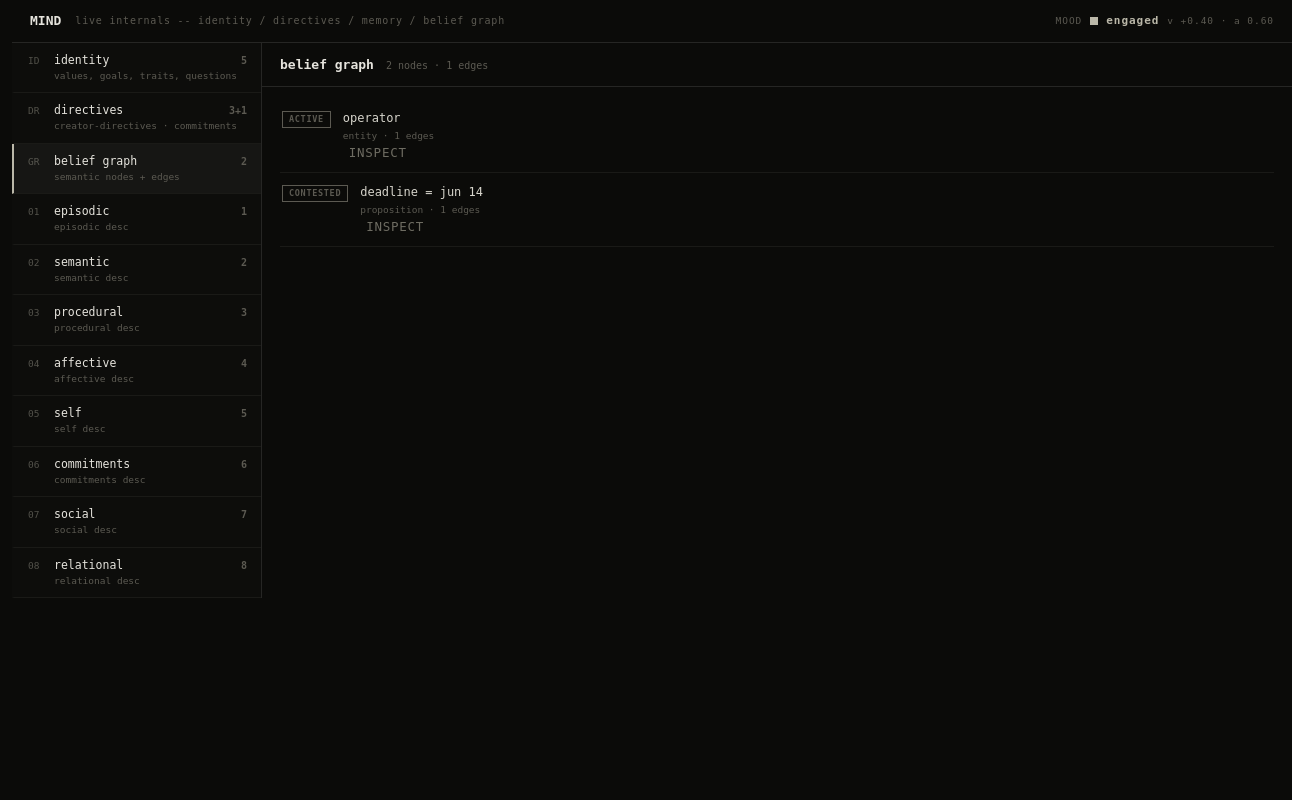
Scenario: Mind page › renders one graph inspector action per row and navigates to the graph detail route
Expected: the text "operator" is shown, [343, 111, 401, 125]
Step 1. Click the button "INSPECT" below "entity · 1 edges" → click(378, 154), box [343, 143, 413, 164]
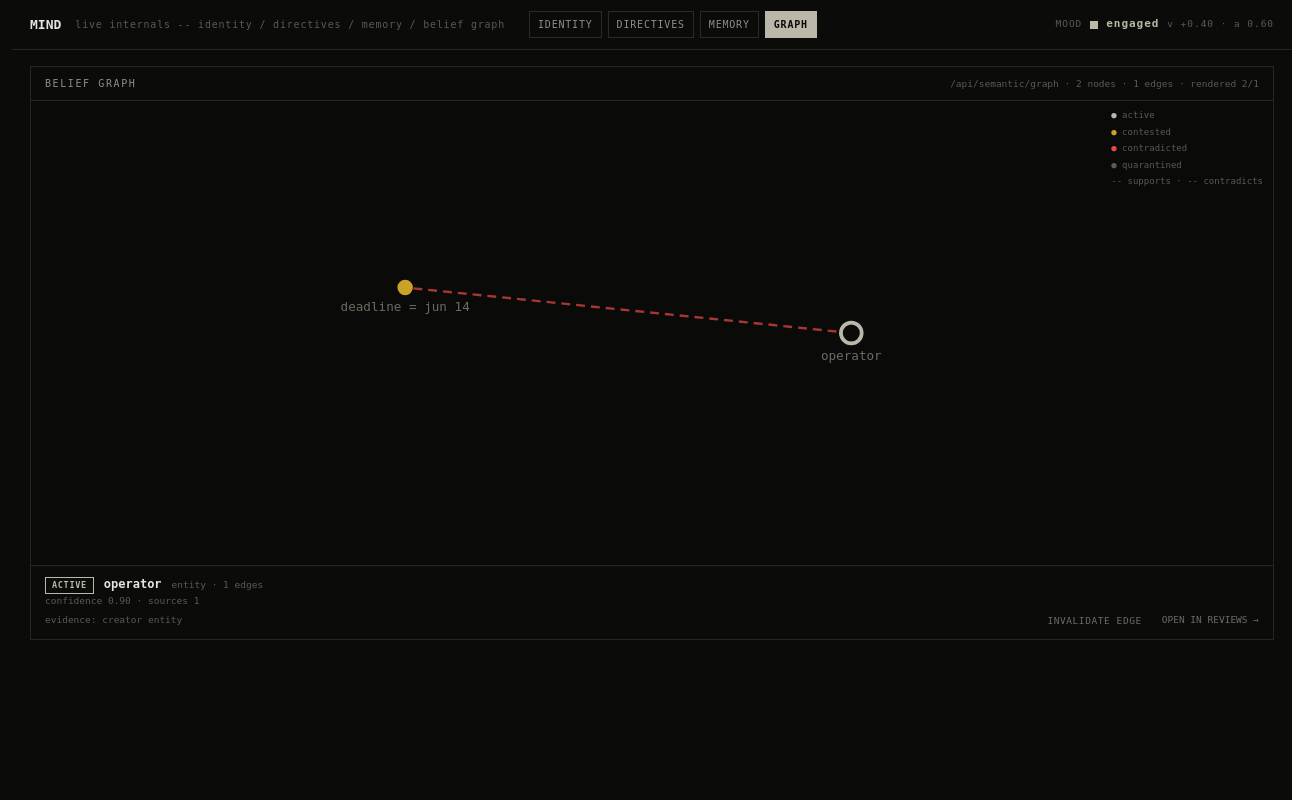
Expected: the text "confidence 0.90 · sources 1" is shown, [45, 595, 200, 606]
